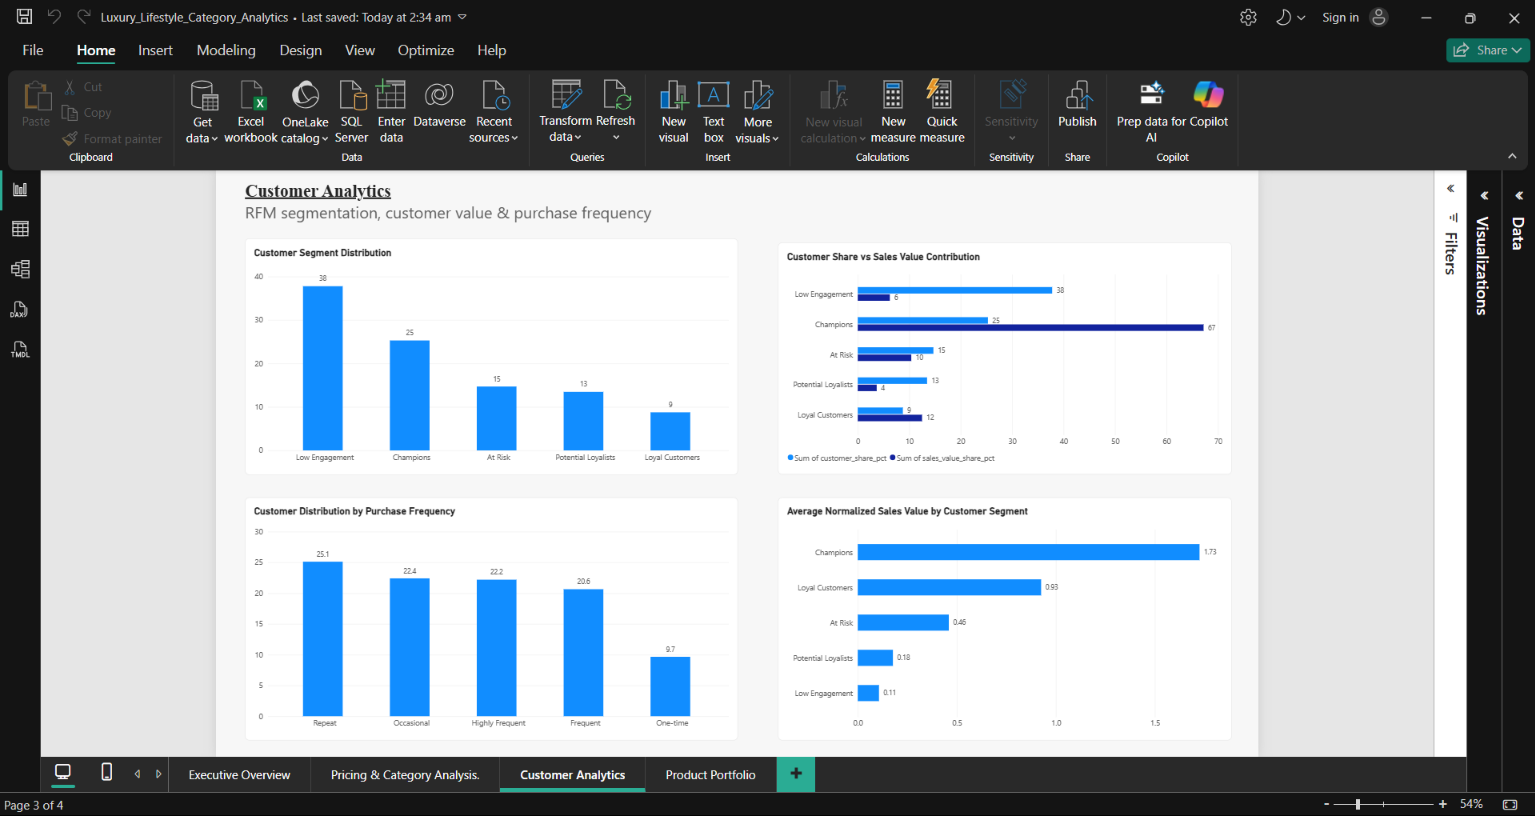

What the dashboard file says about the page in this screenshot:
{"tool":"powerbi","page":{"name":"Customer Analytics","canvas":[1920,1080],"ordinal":2},"visuals":[{"type":"clusteredColumnChart","title":"Customer Segment Distribution","fields":{"Category":["rfm_behavior_summary.segment"],"Y":["Sum(rfm_behavior_summary.customer_share_pct)"]},"box":[52.5,125,907.5,435],"z":0},{"type":"clusteredBarChart","title":"Customer Share vs Sales Value Contribution","fields":{"Category":["rfm_behavior_summary.segment"],"Y":["Sum(rfm_behavior_summary.customer_share_pct)","Sum(rfm_behavior_summary.sales_value_share_pct)"]},"box":[1035,132.5,835,427.5],"z":1000},{"type":"clusteredColumnChart","title":"Customer Distribution by Purchase Frequency","fields":{"Category":["purchase_frequency_summary.purchase_frequency_group"],"Y":["Sum(purchase_frequency_summary.customer_share_pct)"]},"box":[52.5,602.5,907.5,447.5],"z":2000},{"type":"clusteredBarChart","title":"Average Normalized Sales Value by Customer Segment","fields":{"Category":["rfm_behavior_summary.segment"],"Y":["Sum(rfm_behavior_summary.avg_sales_value)"]},"box":[1035,602.5,835,447.5],"z":3000},{"type":"textbox","title":"Customer Analytics","box":[52.5,17.5,755,115],"z":3001}]}

Visuals, with their boxes on the page's 1920x1080 design canvas (x1, y1, x2, y2). These are canvas units, not pixel positions in the 1535x816 screenshot, which may show the page scaled, cropped or inside an application window:
"Customer Segment Distribution" clusteredColumnChart: rect(52, 125, 960, 560)
"Customer Share vs Sales Value Contribution" clusteredBarChart: rect(1035, 132, 1870, 560)
"Customer Distribution by Purchase Frequency" clusteredColumnChart: rect(52, 602, 960, 1050)
"Average Normalized Sales Value by Customer Segment" clusteredBarChart: rect(1035, 602, 1870, 1050)
"Customer Analytics" textbox: rect(52, 18, 808, 132)
